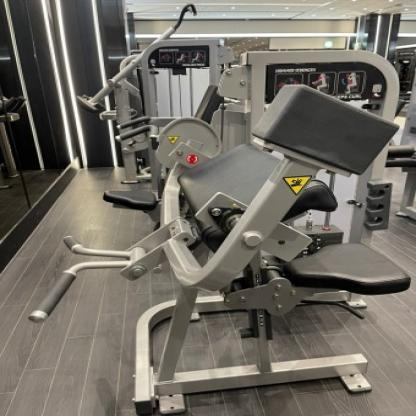arm curl machine: (27, 144, 411, 416)
